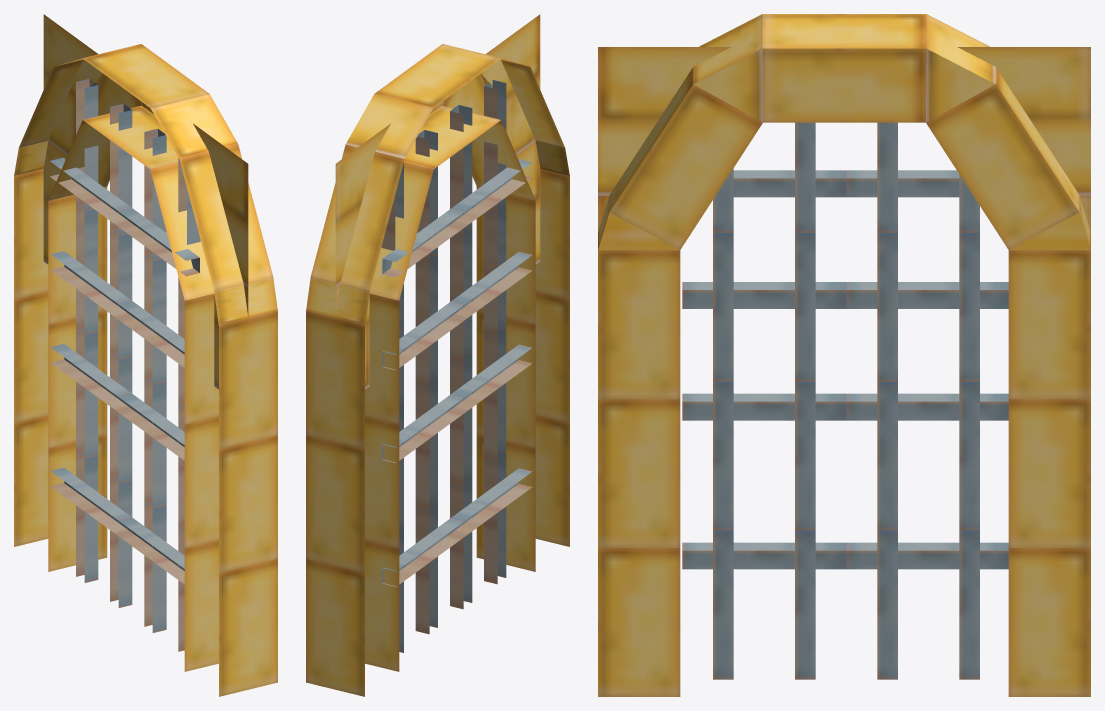
Rendered from geo_bars.fbx.
3 renders of one model, left to right at view 1: azimuth 30°, elevation 25°; view 2: azimuth 150°, elevation 25°; view 3: azimuth 270°, elevation 25°, orthographic. The views are drawn at different scales.
Parts seen in each view (by area): view 1: geo_bars; view 2: geo_bars; view 3: geo_bars.
Part boxes in pixels (x1,y1,x2,y2): geo_bars: (14, 14, 277, 696); geo_bars: (306, 14, 569, 696); geo_bars: (598, 14, 1090, 696).
Bounding box in the file's own units: 1 × 8.71 × 6.
